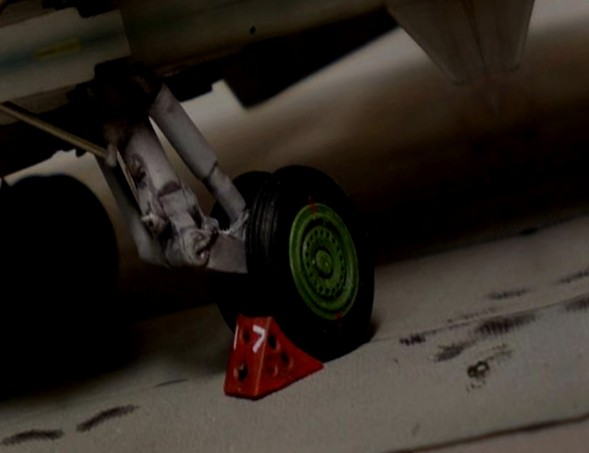chock: (203, 293, 329, 407)
wheel: (225, 150, 398, 374), (7, 161, 135, 332), (0, 186, 40, 358)
